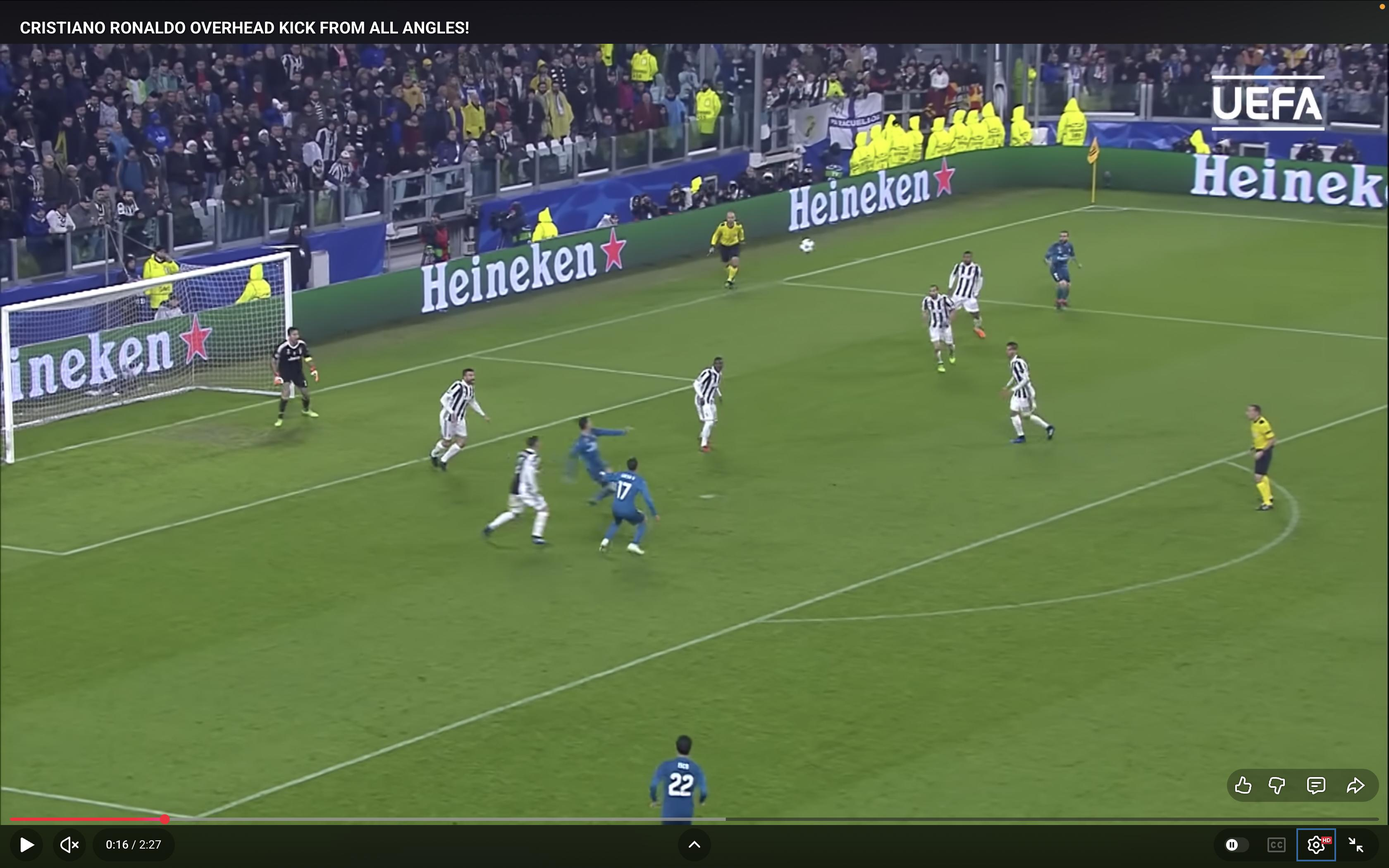ball: (799, 238, 814, 253)
goalkeeper: (272, 327, 318, 427)
player: (483, 435, 548, 545), (430, 368, 489, 470), (565, 417, 632, 505), (600, 458, 659, 554), (649, 735, 708, 825), (1003, 342, 1055, 444), (949, 250, 986, 339), (922, 285, 957, 373), (693, 357, 723, 452), (1045, 231, 1080, 311)
referee: (1246, 404, 1276, 510), (709, 212, 745, 289)
